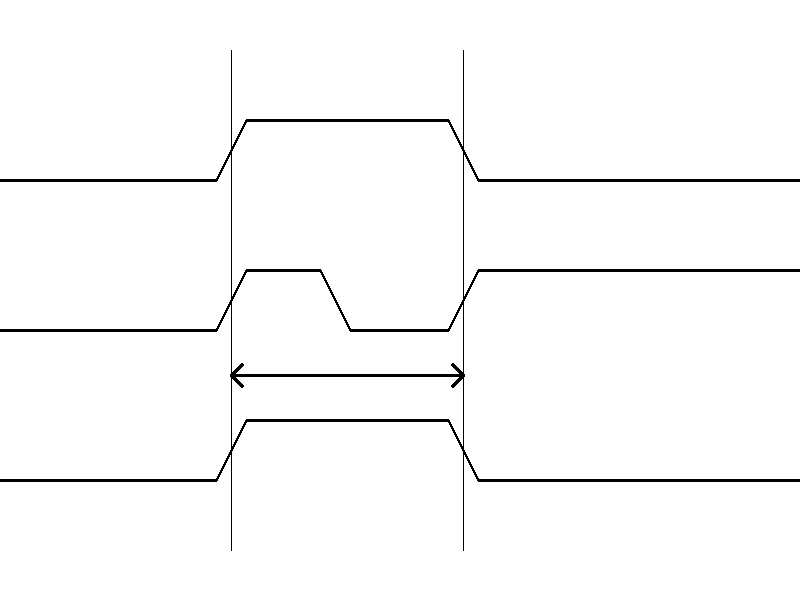double_arrow: (231, 360, 463, 390)
